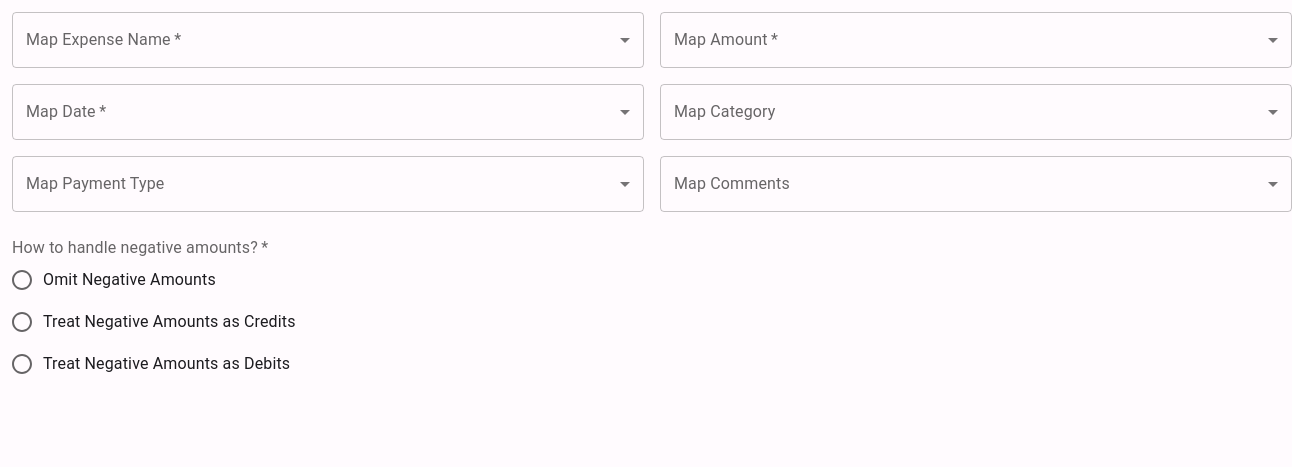
Test: FileImportMapper › should show error for duplicate column mappings
Click the dropdown named "Map Expense Name" next to "Expense Name". click: (328, 40)
box: [12,12,644,68]
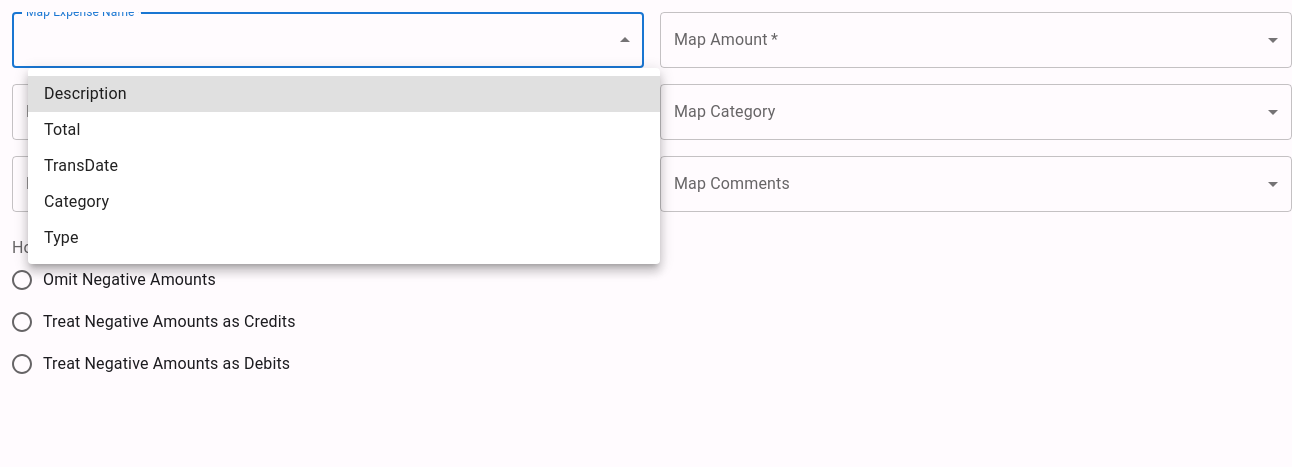
Click the option "Description". click: (85, 94)
box: [28,76,660,112]
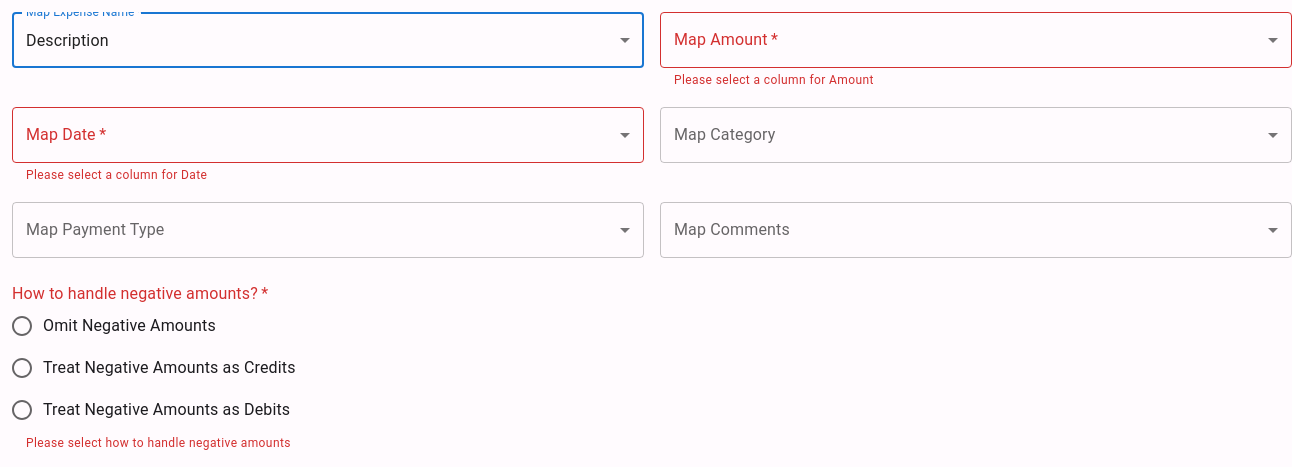
Click the 1st dropdown named "Map Amount". click: (976, 40)
box: [660,12,1291,68]
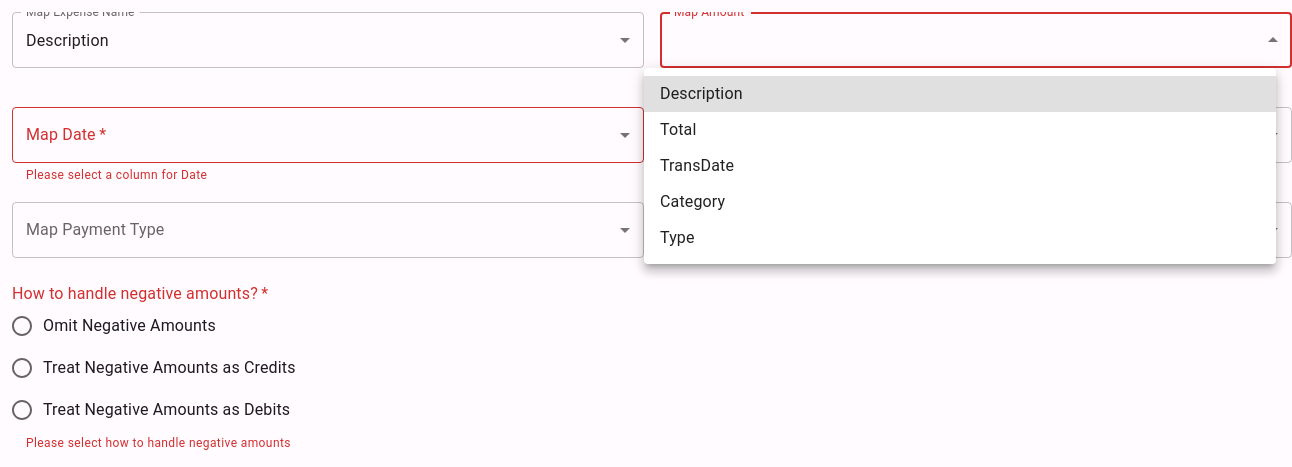
Click the option "Description". click: (701, 94)
box: [644,76,1276,112]
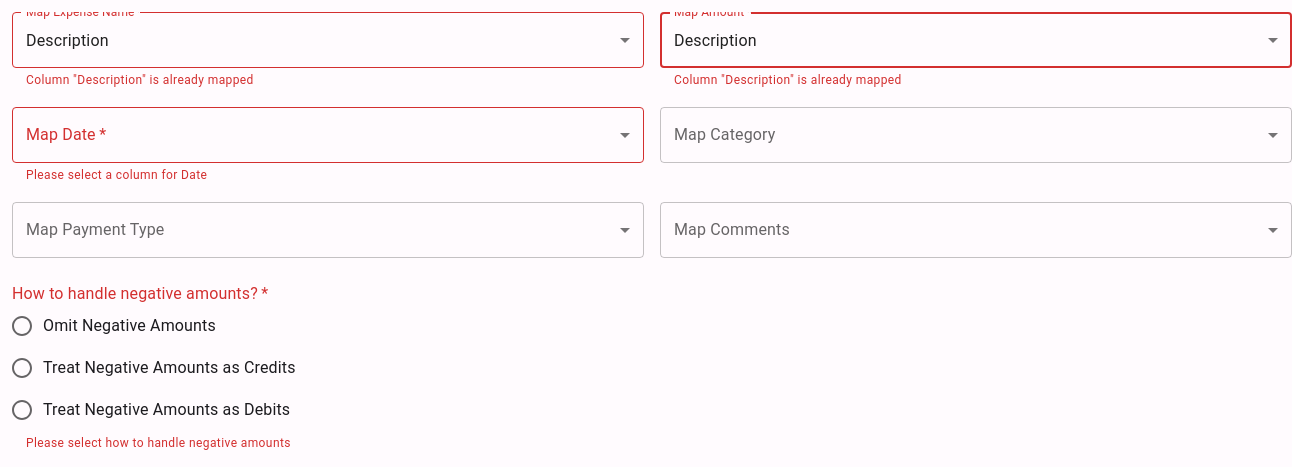
Check: the text "Column \"Description\" is already mapped" below "Expense Name" is shown, box [26,73,254,87]
